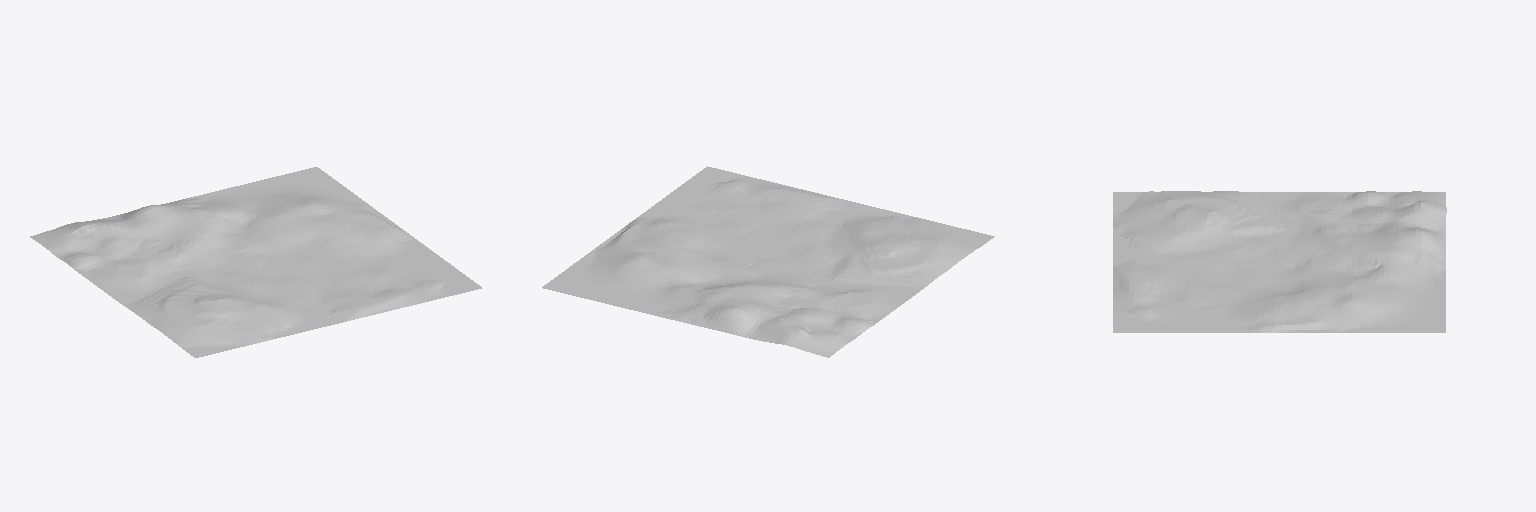
Rendered from ground.obj.
The picture shows the model from 3 angles: view 1: azimuth 30°, elevation 25°; view 2: azimuth 150°, elevation 25°; view 3: azimuth 270°, elevation 25°; orthographic projection.
Parts seen in each view (by area): view 1: ground; view 2: ground; view 3: ground.
Part boxes in pixels (x1,y1,x2,y2): ground: (30, 167, 481, 357); ground: (542, 166, 994, 357); ground: (1113, 191, 1446, 332).
Size of the model in its own units: 90.61 by 3.84 by 90.81.